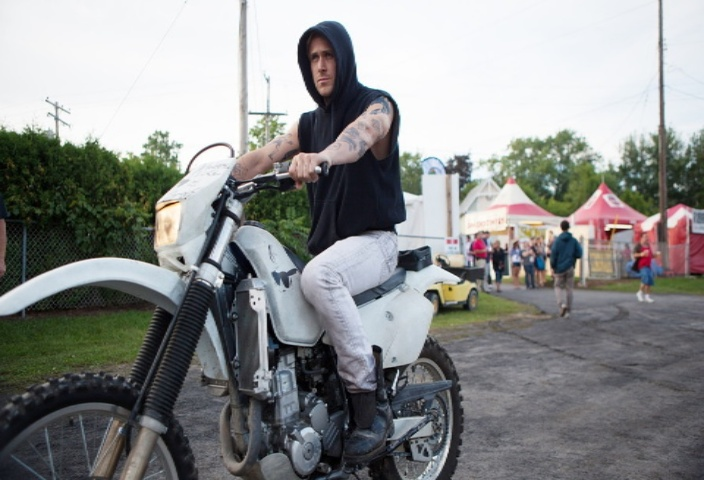motorcycle: (1, 117, 490, 480)
